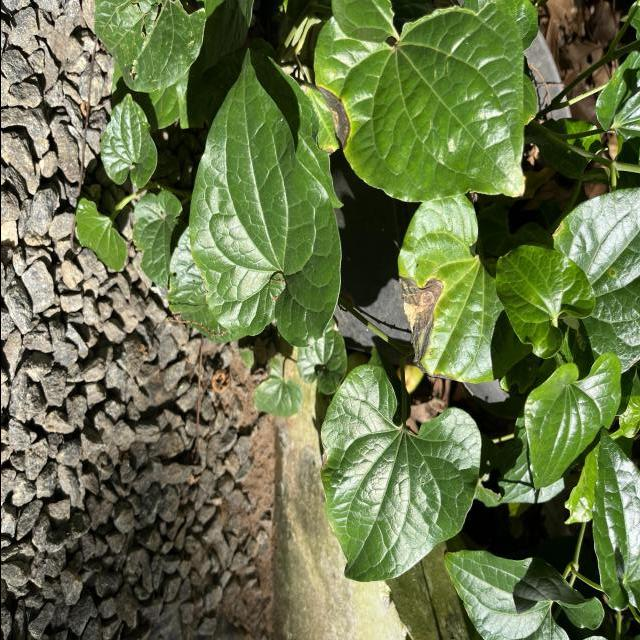Piper longum: (187, 44, 345, 350), (317, 363, 482, 584), (522, 351, 622, 492), (492, 242, 596, 362)
